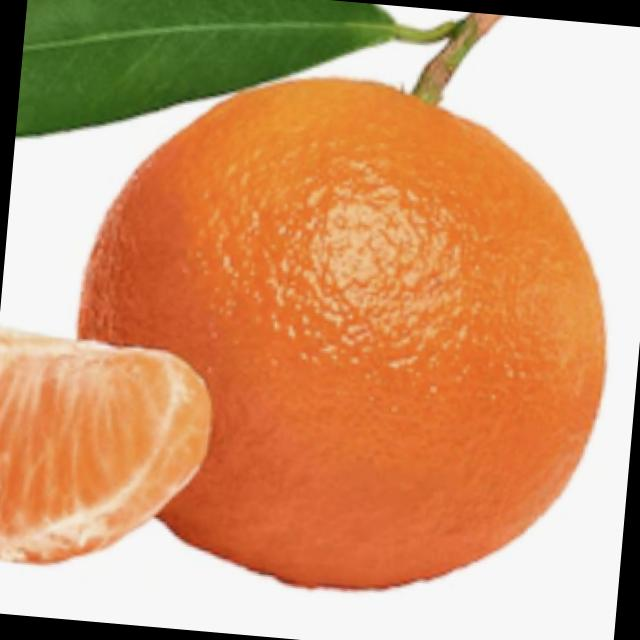orange: (48, 46, 640, 625)
